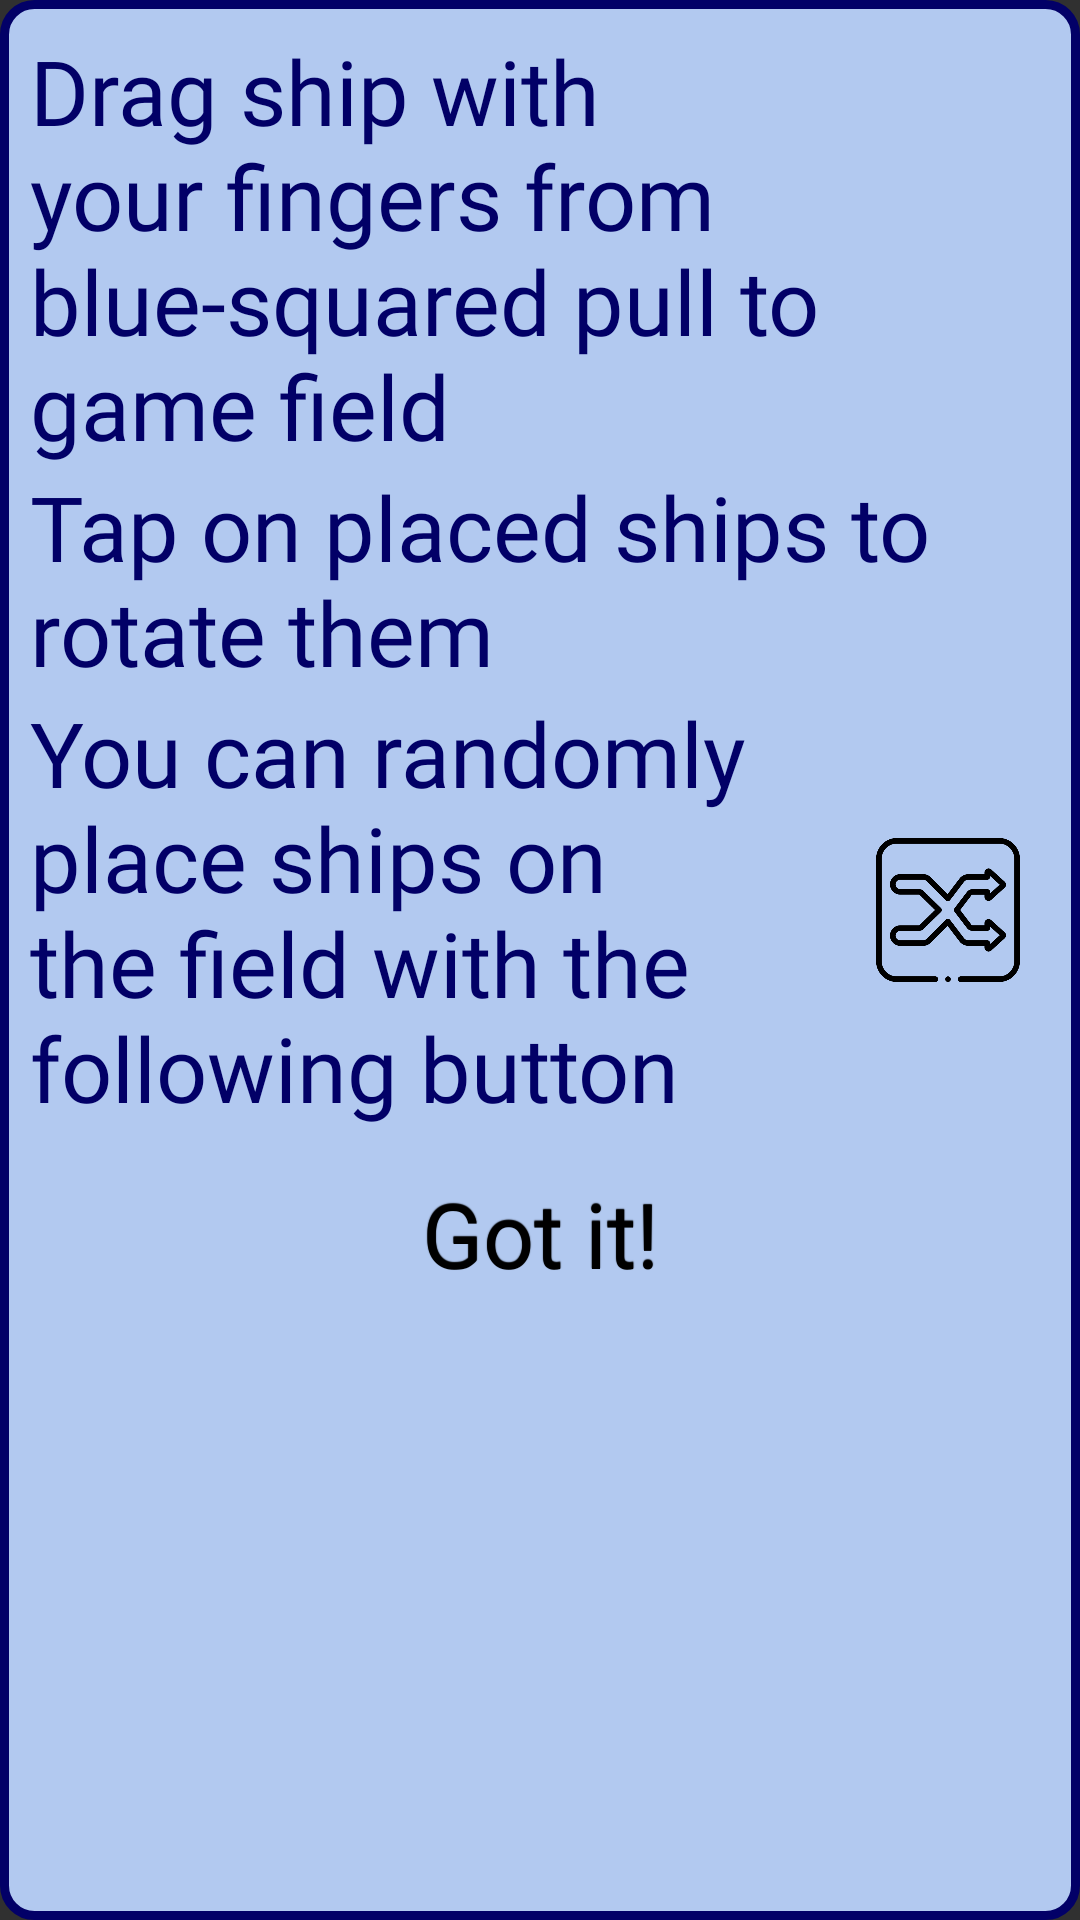

Icon bounding boxes for this 1080*1920 phone screenshot, format [x1=x1, y1=y1, x2=x2, y2=y2]:
Shuffle: [x1=876, y1=838, x2=1020, y2=982]
